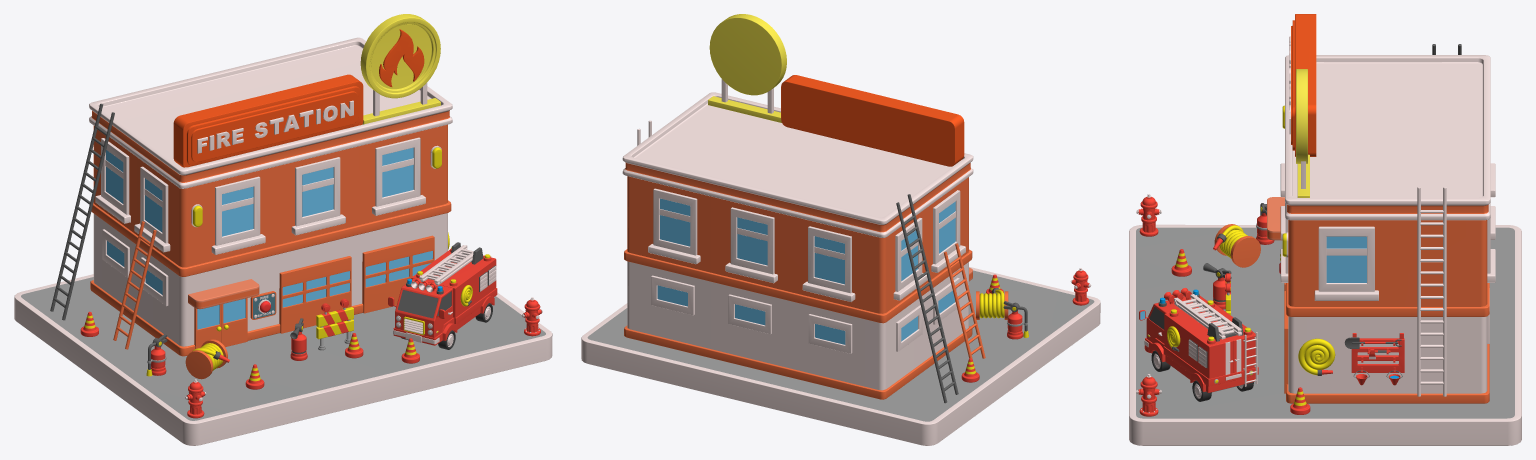
The model's file is Public_Island_11.glb.
The picture shows the model from 3 angles, left to right: view 1: azimuth 30°, elevation 25°; view 2: azimuth 150°, elevation 25°; view 3: azimuth 270°, elevation 25°; orthographic projection. The views are drawn at different scales.
Visible parts, largest first — view 1: Public_11_Fire_Station_1, Public_11_Base_1, Public_11_Fire_Station_Sign_1, Public_11_Fire_Truck_1, Public_11_Fire_Sign_1, Public_11_Firefighter_Ladder_2, Public_11_Firefighter_Ladder_1, Public_11_Road_Barrier_1, Public_11_Fire_Hose_1, Public_11_Fire_Extinguisher_1, Public_11_Fire_Button_Sign_1, Public_11_Fire_Hydrant_2 (+2 smaller); view 2: Public_11_Fire_Station_1, Public_11_Base_1, Public_11_Fire_Station_Sign_1, Public_11_Fire_Sign_1, Public_11_Firefighter_Ladder_2, Public_11_Firefighter_Ladder_1, Public_11_Fire_Hose_1, Public_11_Fire_Extinguisher_1, Public_11_Fire_Hydrant_1; view 3: Public_11_Fire_Station_1, Public_11_Base_1, Public_11_Fire_Truck_1, Public_11_Fire_Station_Sign_1, Public_11_Fire_Sign_1, Public_11_Fire_Hose_1, Public_11_Fire_stand_1, Public_11_Fire_Hose_2, Public_11_Fire_Hydrant_2, Public_11_Fire_Hydrant_1, Public_11_Fire_Extinguisher_2, Public_11_Fire_Extinguisher_1.
Boxes of the visible parts, x1,y1,x2,y2 form: Public_11_Fire_Station_1: (89, 37, 452, 356); Public_11_Base_1: (14, 274, 552, 445); Public_11_Fire_Station_Sign_1: (173, 74, 363, 167); Public_11_Fire_Truck_1: (388, 242, 497, 349); Public_11_Fire_Sign_1: (360, 14, 440, 124); Public_11_Firefighter_Ladder_2: (50, 103, 114, 320); Public_11_Firefighter_Ladder_1: (113, 221, 156, 349); Public_11_Road_Barrier_1: (316, 298, 353, 350); Public_11_Fire_Hose_1: (185, 339, 229, 379); Public_11_Fire_Extinguisher_1: (146, 334, 167, 376); Public_11_Fire_Button_Sign_1: (250, 291, 276, 319); Public_11_Fire_Hydrant_2: (521, 297, 542, 336); Public_11_Fire_Station_1: (622, 92, 973, 399); Public_11_Base_1: (581, 267, 1100, 445); Public_11_Fire_Station_Sign_1: (781, 75, 964, 166); Public_11_Fire_Sign_1: (708, 14, 786, 122); Public_11_Firefighter_Ladder_2: (896, 194, 958, 403); Public_11_Firefighter_Ladder_1: (944, 243, 985, 361); Public_11_Fire_Hose_1: (976, 288, 1008, 319); Public_11_Fire_Extinguisher_1: (1003, 301, 1028, 339); Public_11_Fire_Hydrant_1: (1070, 268, 1091, 305); Public_11_Fire_Station_1: (1267, 55, 1495, 403); Public_11_Base_1: (1129, 224, 1521, 445); Public_11_Fire_Truck_1: (1139, 288, 1258, 401); Public_11_Fire_Station_Sign_1: (1289, 14, 1316, 156); Public_11_Fire_Sign_1: (1296, 69, 1309, 197); Public_11_Fire_Hose_1: (1213, 224, 1260, 267); Public_11_Fire_stand_1: (1351, 333, 1404, 372); Public_11_Fire_Hose_2: (1298, 338, 1335, 375); Public_11_Fire_Hydrant_2: (1136, 374, 1161, 416); Public_11_Fire_Hydrant_1: (1136, 194, 1161, 236); Public_11_Fire_Extinguisher_2: (1203, 263, 1231, 309); Public_11_Fire_Extinguisher_1: (1256, 203, 1274, 244).
Size of the model in its own units: 20.7 by 16.25 by 17.44.
Materials: 25 (25 with a texture image).
